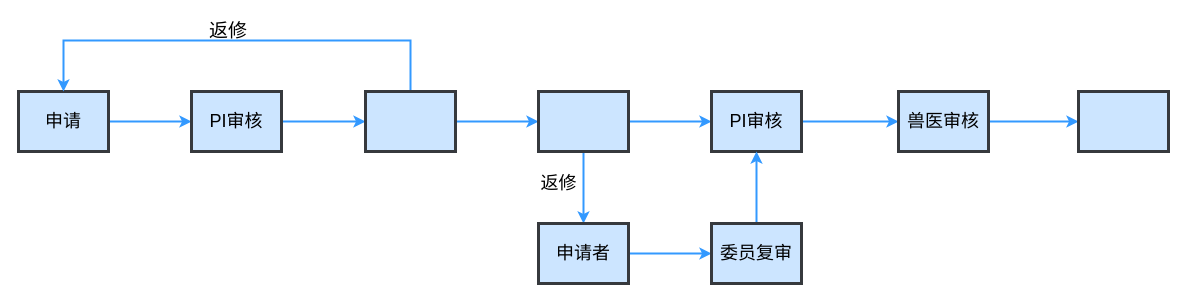
The diagram is 1187 pixels wide and 302 high, and some of its shapes have lost their labels. Each missing label, with the box of its shape:
委员初审: (536, 90, 630, 152)
完结: (1076, 90, 1170, 152)
秘书格式审核: (364, 90, 456, 152)
